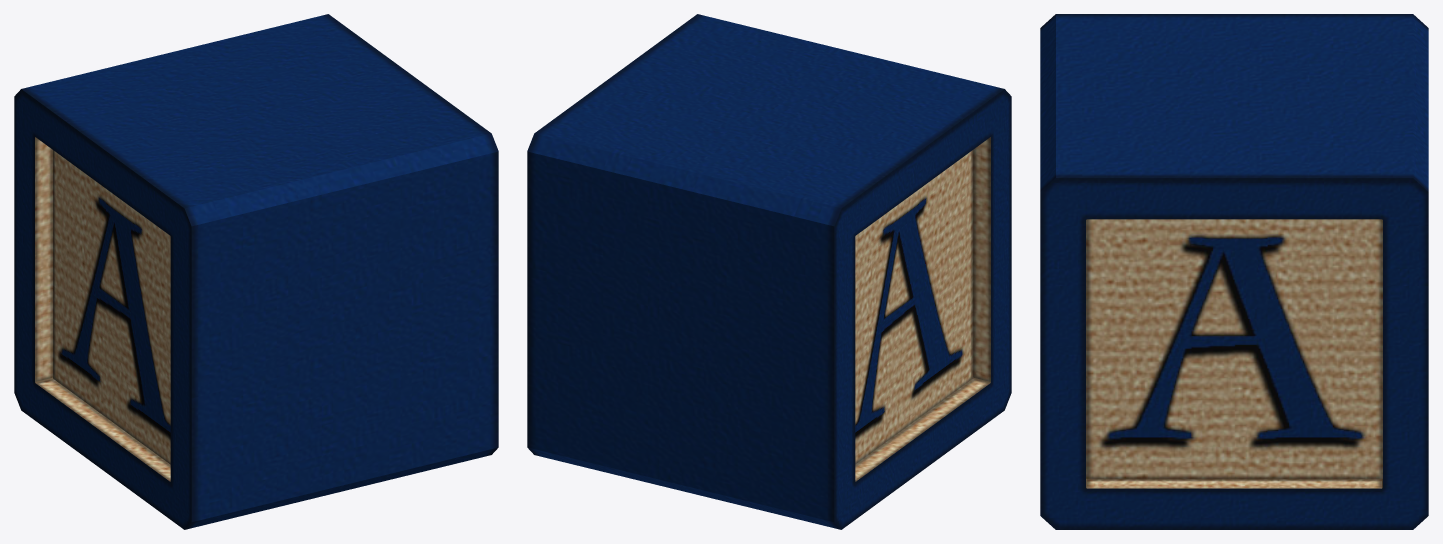
The model's file is Moveable_Block.FBX.
3 views of the same model, side by side, from view 1: azimuth 30°, elevation 25°; view 2: azimuth 150°, elevation 25°; view 3: azimuth 270°, elevation 25° (orthographic). The views are drawn at different scales.
Visible parts, largest first — view 1: Box071; view 2: Box071; view 3: Box071.
Boxes of the visible parts, x1,y1,x2,y2 form: Box071: [14, 14, 498, 529]; Box071: [527, 14, 1011, 529]; Box071: [1040, 14, 1428, 529].
Bounding box in the file's own units: 100 × 100 × 100.
